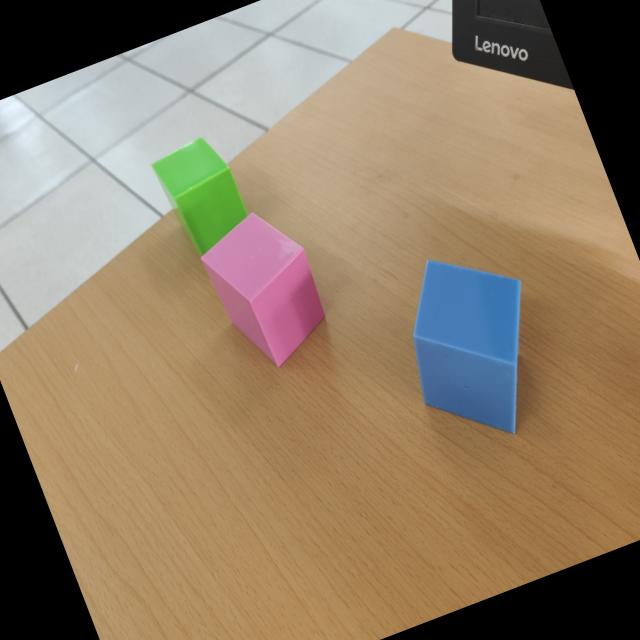blue: (413, 260, 519, 436)
green: (151, 135, 248, 255)
pink: (198, 212, 325, 368)
